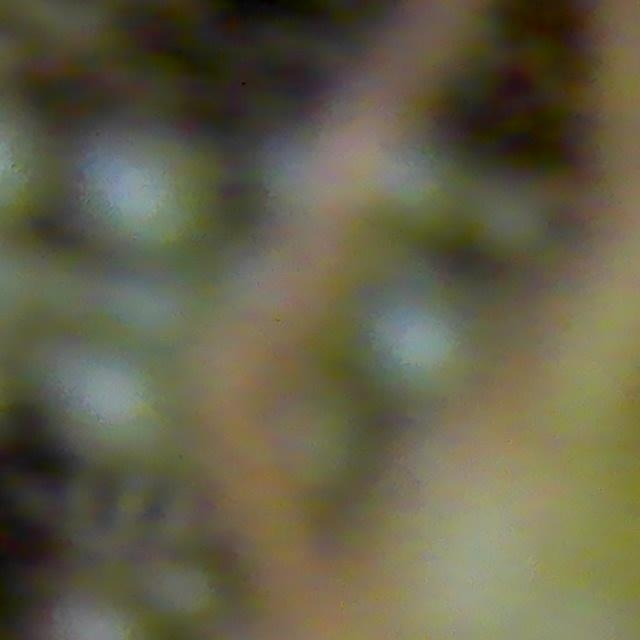SeaGrape: (76, 128, 208, 256), (58, 350, 167, 462), (366, 292, 473, 403), (103, 270, 194, 352), (468, 180, 554, 263), (148, 557, 221, 625)
